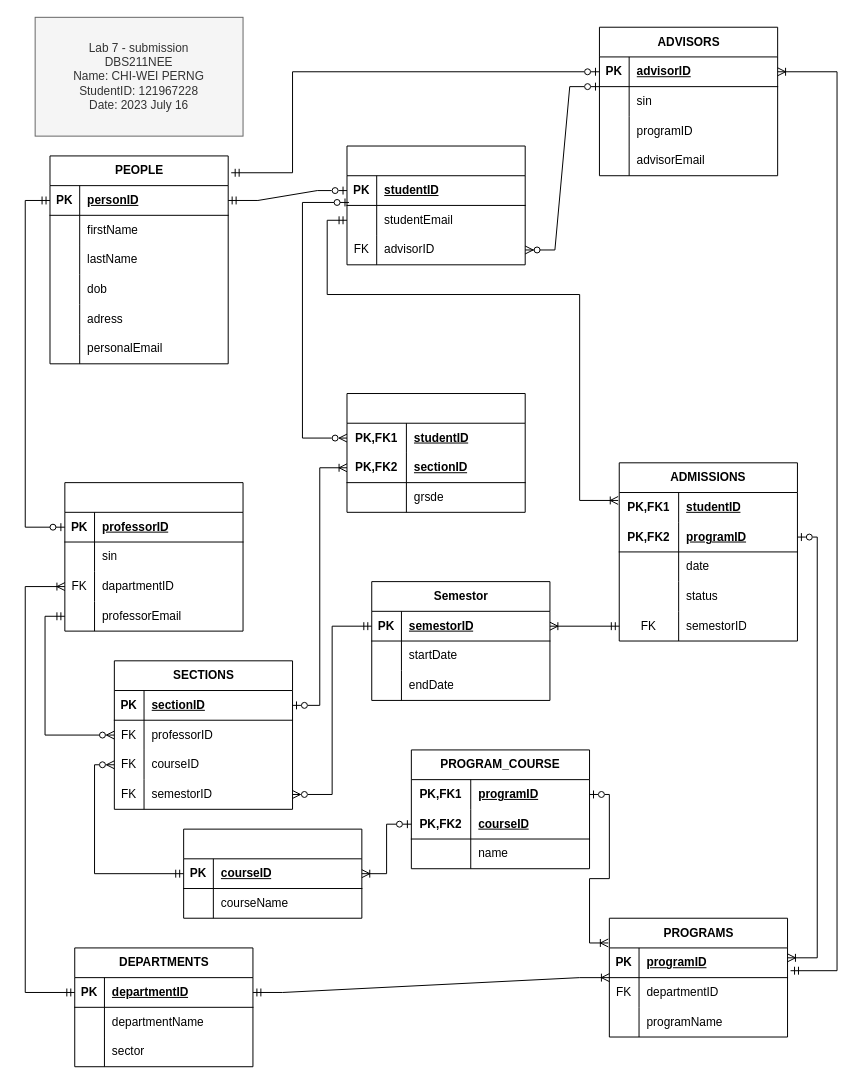
The diagram is 863 pixels wide and 1084 high, and some of its shapes have lost their labels. Here are the shapes that lost their labels. From the top down, the box of each, then its label:
(346, 145, 525, 265): STUDENTS
(346, 393, 525, 512): ENROLL
(64, 482, 243, 631): PROFESSORS
(183, 828, 362, 918): COURSES
